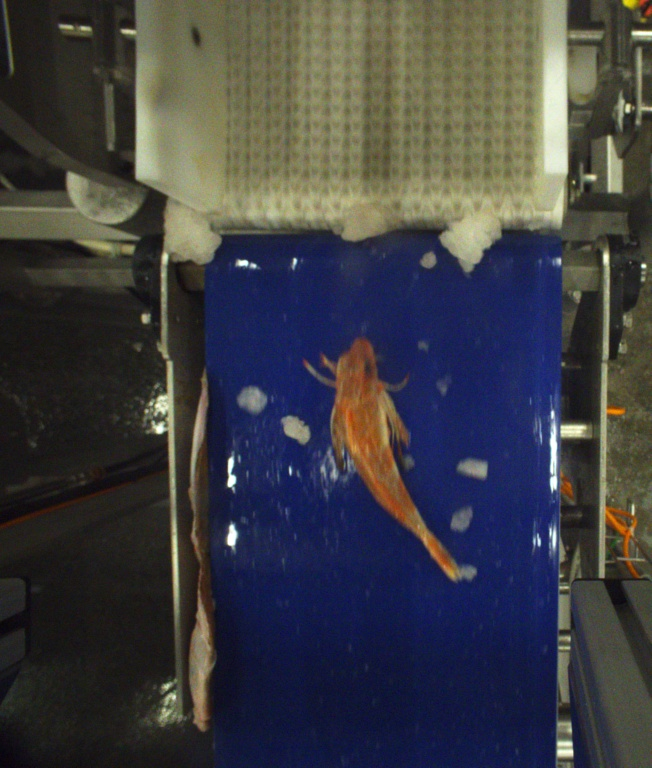GUU: (302, 338, 467, 584)
